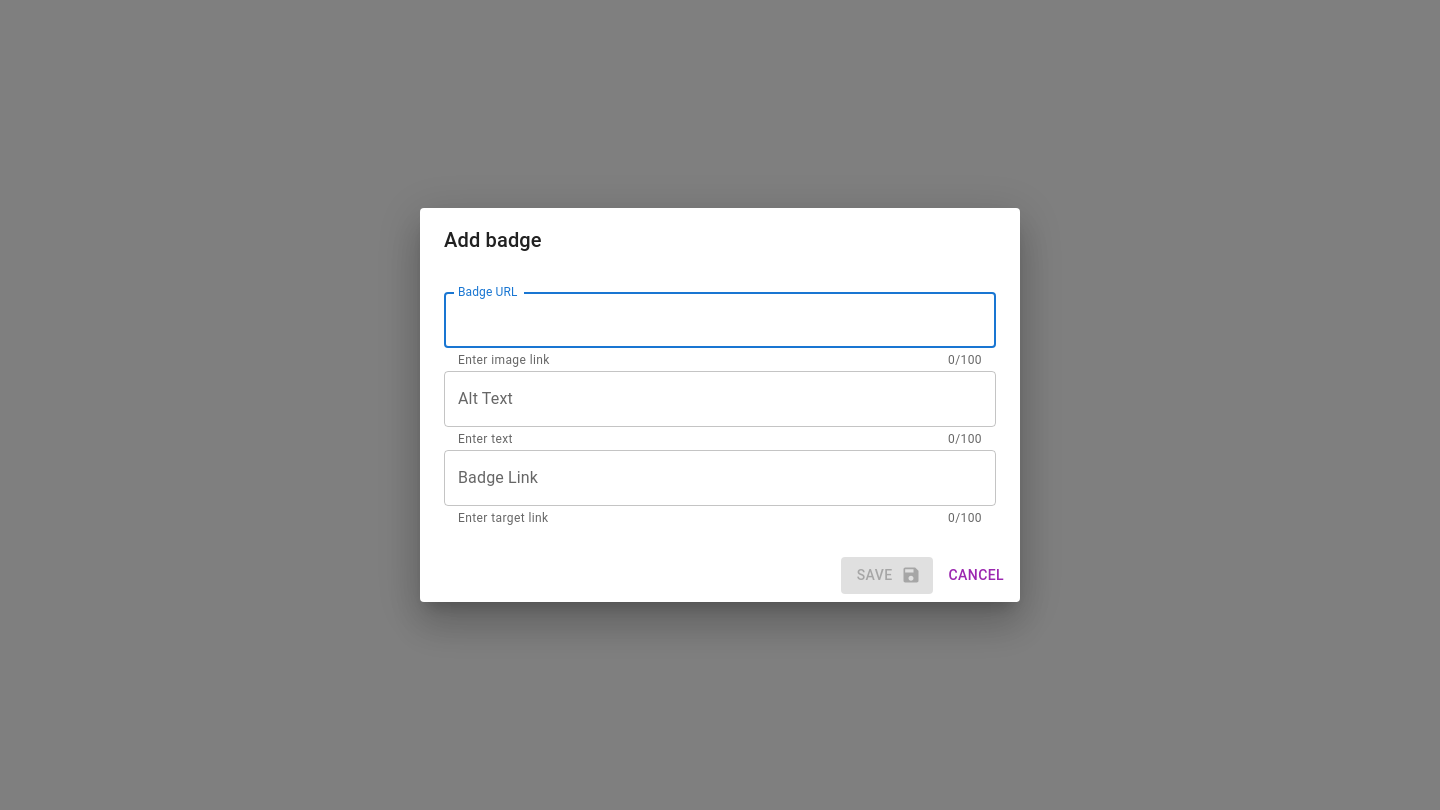
shows an error message if the user enters a duplicate badge URL
Type "https://example.com" into the field labelled "Badge URL" at (720, 320), box [444, 292, 996, 348]
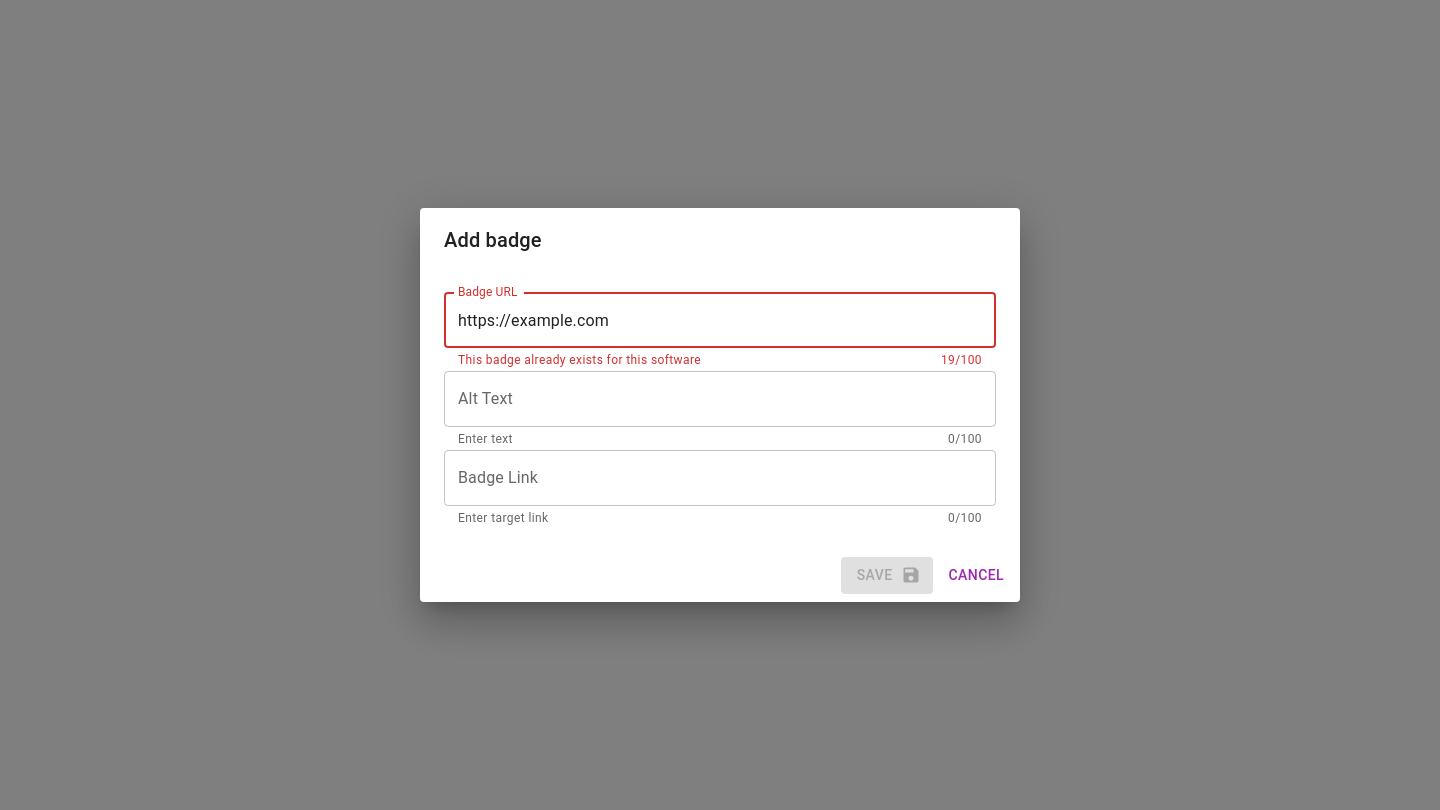
expect the button "Save" is disabled: met, box [841, 557, 932, 594]
expect the text "This badge already exists for this software" is shown: met, box [458, 351, 701, 371]
